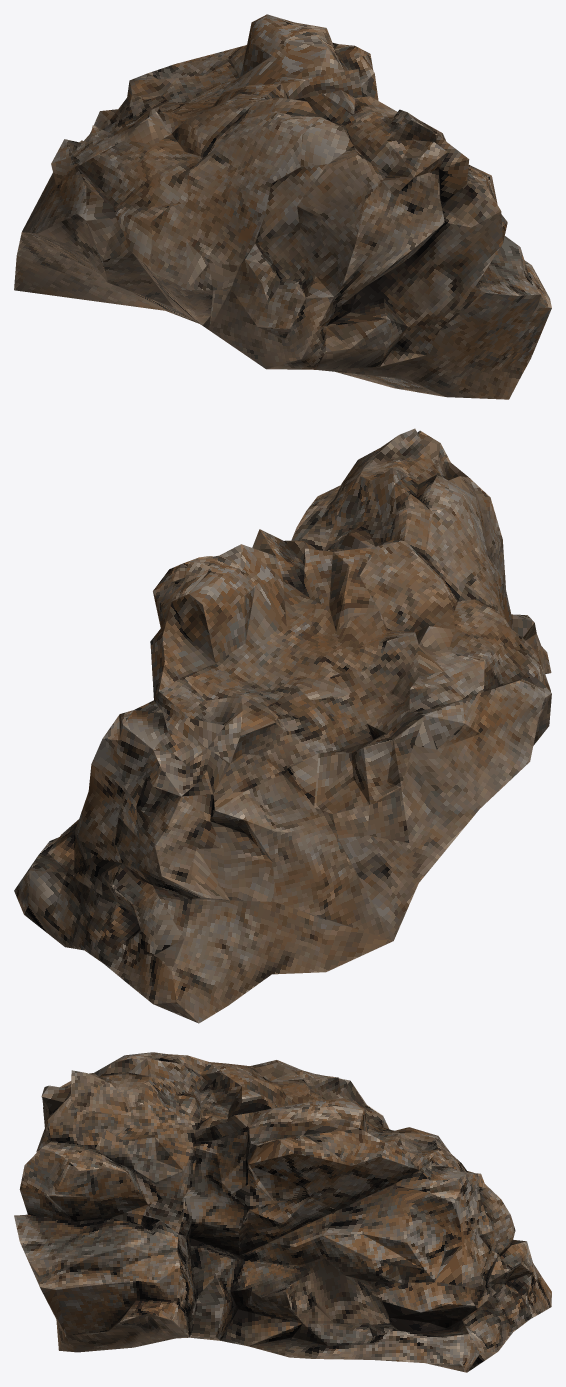
The model's file is boulder_01.glb.
The picture shows the model from 3 angles, top to bottom: view 1: azimuth 30°, elevation 25°; view 2: azimuth 150°, elevation 25°; view 3: azimuth 270°, elevation 25°; orthographic projection. The views are drawn at different scales.
Parts seen in each view (by area): view 1: boulder_01; view 2: boulder_01; view 3: boulder_01.
Part boxes in pixels (<box>): boulder_01: <box>14,14,551,399</box>; boulder_01: <box>14,428,551,1023</box>; boulder_01: <box>14,1052,551,1372</box>.
Size of the model in its own units: 1.28 by 1 by 1.81.
1 material, 1 textured.
